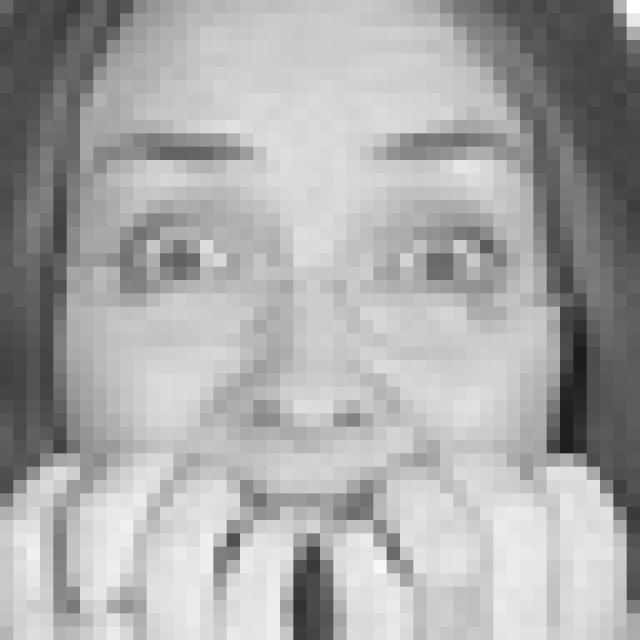fear: (96, 113, 538, 586)
